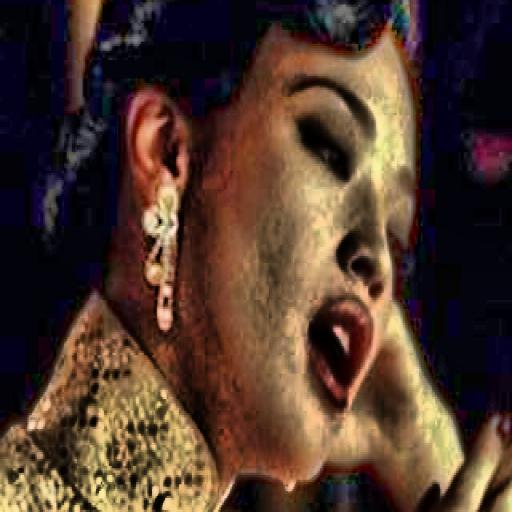Rokok: (247, 302, 512, 512)
